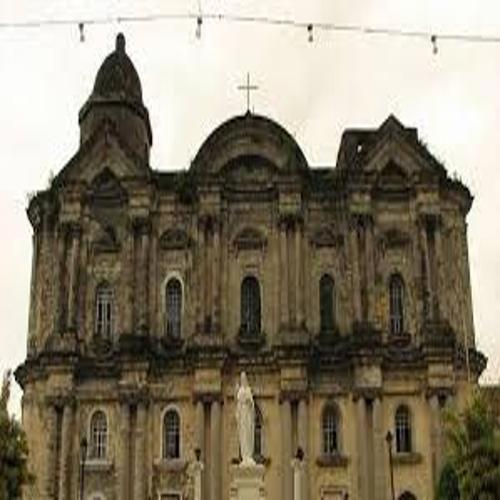Taal Basilica Church: (12, 27, 487, 495)
